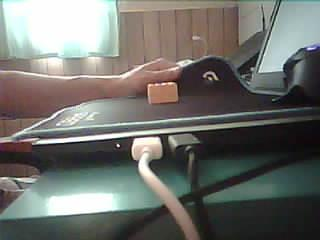lego: (147, 81, 179, 103)
